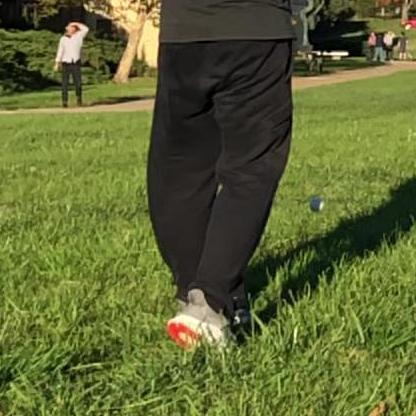golfball: (306, 195, 323, 210)
